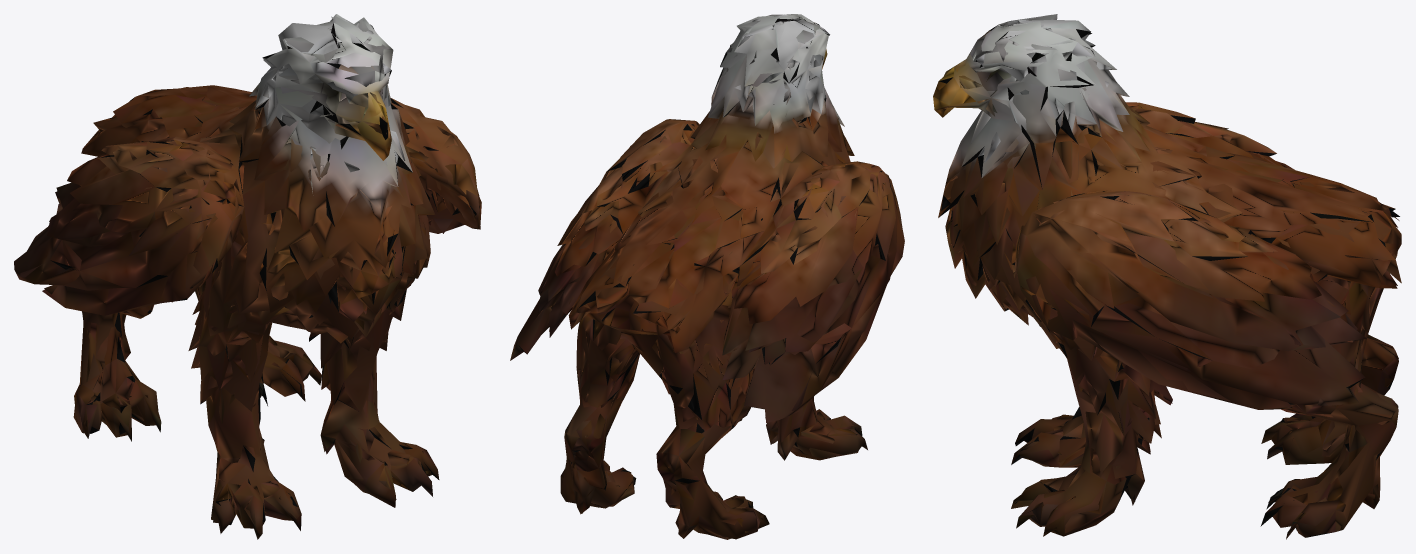
The model's file is detail_3_lo.glb.
3 renders of one model, left to right at view 1: azimuth 30°, elevation 25°; view 2: azimuth 150°, elevation 25°; view 3: azimuth 270°, elevation 25°, orthographic. The views are drawn at different scales.
Parts seen in each view (by area): view 1: Mesh_0.001; view 2: Mesh_0.001; view 3: Mesh_0.001.
Part boxes in pixels (<box>): Mesh_0.001: <box>14,14,481,539</box>; Mesh_0.001: <box>510,14,904,539</box>; Mesh_0.001: <box>933,14,1401,539</box>.
Bounding box in the file's own units: 0.6681 × 0.8871 × 0.8072.
Materials: 1 (1 with a texture image).
